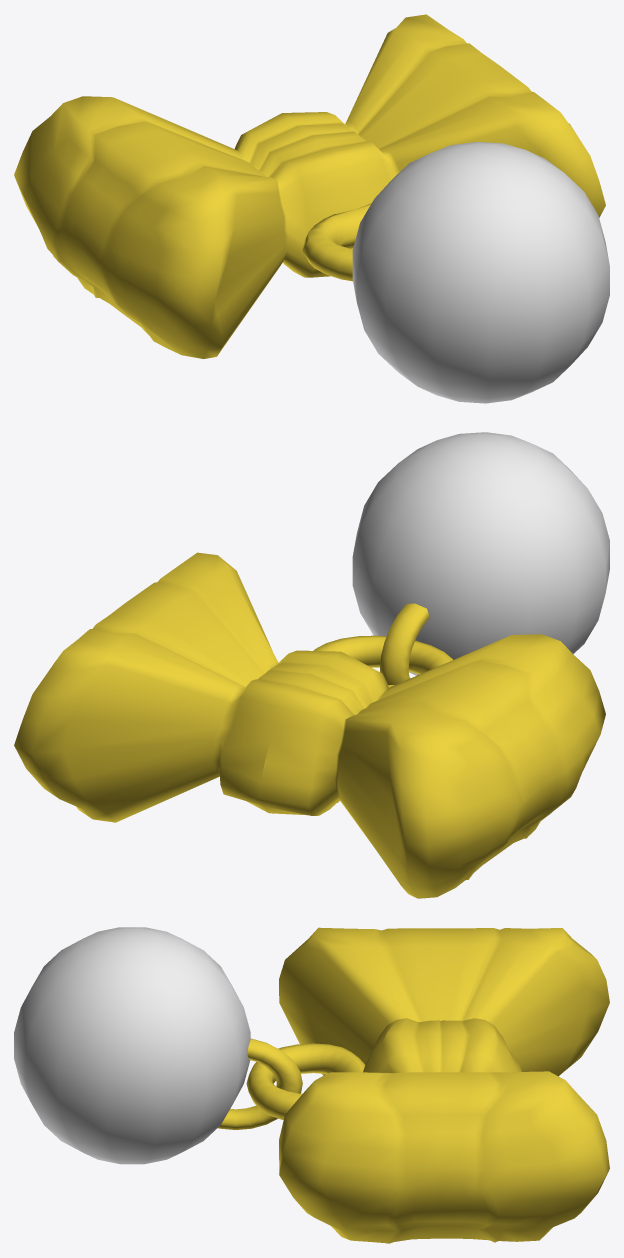
The picture shows the model from 3 angles, top to bottom: view 1: azimuth 30°, elevation 25°; view 2: azimuth 150°, elevation 25°; view 3: azimuth 270°, elevation 25°; orthographic projection. The views are drawn at different scales.
Visible parts, largest first — view 1: 2 Bow (×2); view 2: 2 Bow (×2); view 3: 2 Bow (×2).
Part boxes in pixels (<box>): 2 Bow (×2): <box>14,14,609,403</box>; 2 Bow (×2): <box>14,432,609,898</box>; 2 Bow (×2): <box>14,927,609,1243</box>.
Size of the model in its own units: 47.15 by 24.94 by 57.63.
